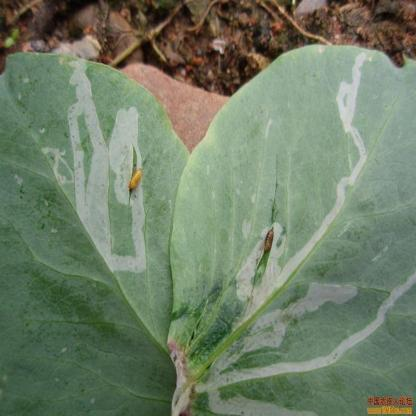whorl-maggot: (124, 165, 148, 199), (259, 220, 278, 258)
